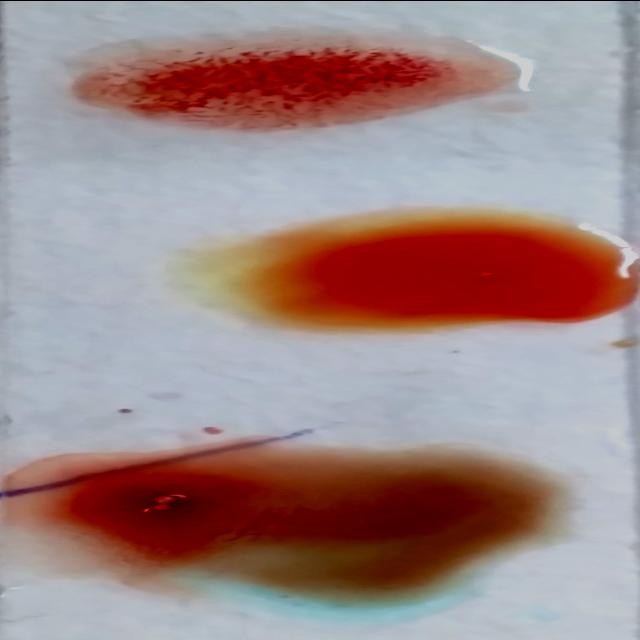D: (70, 32, 514, 130)
